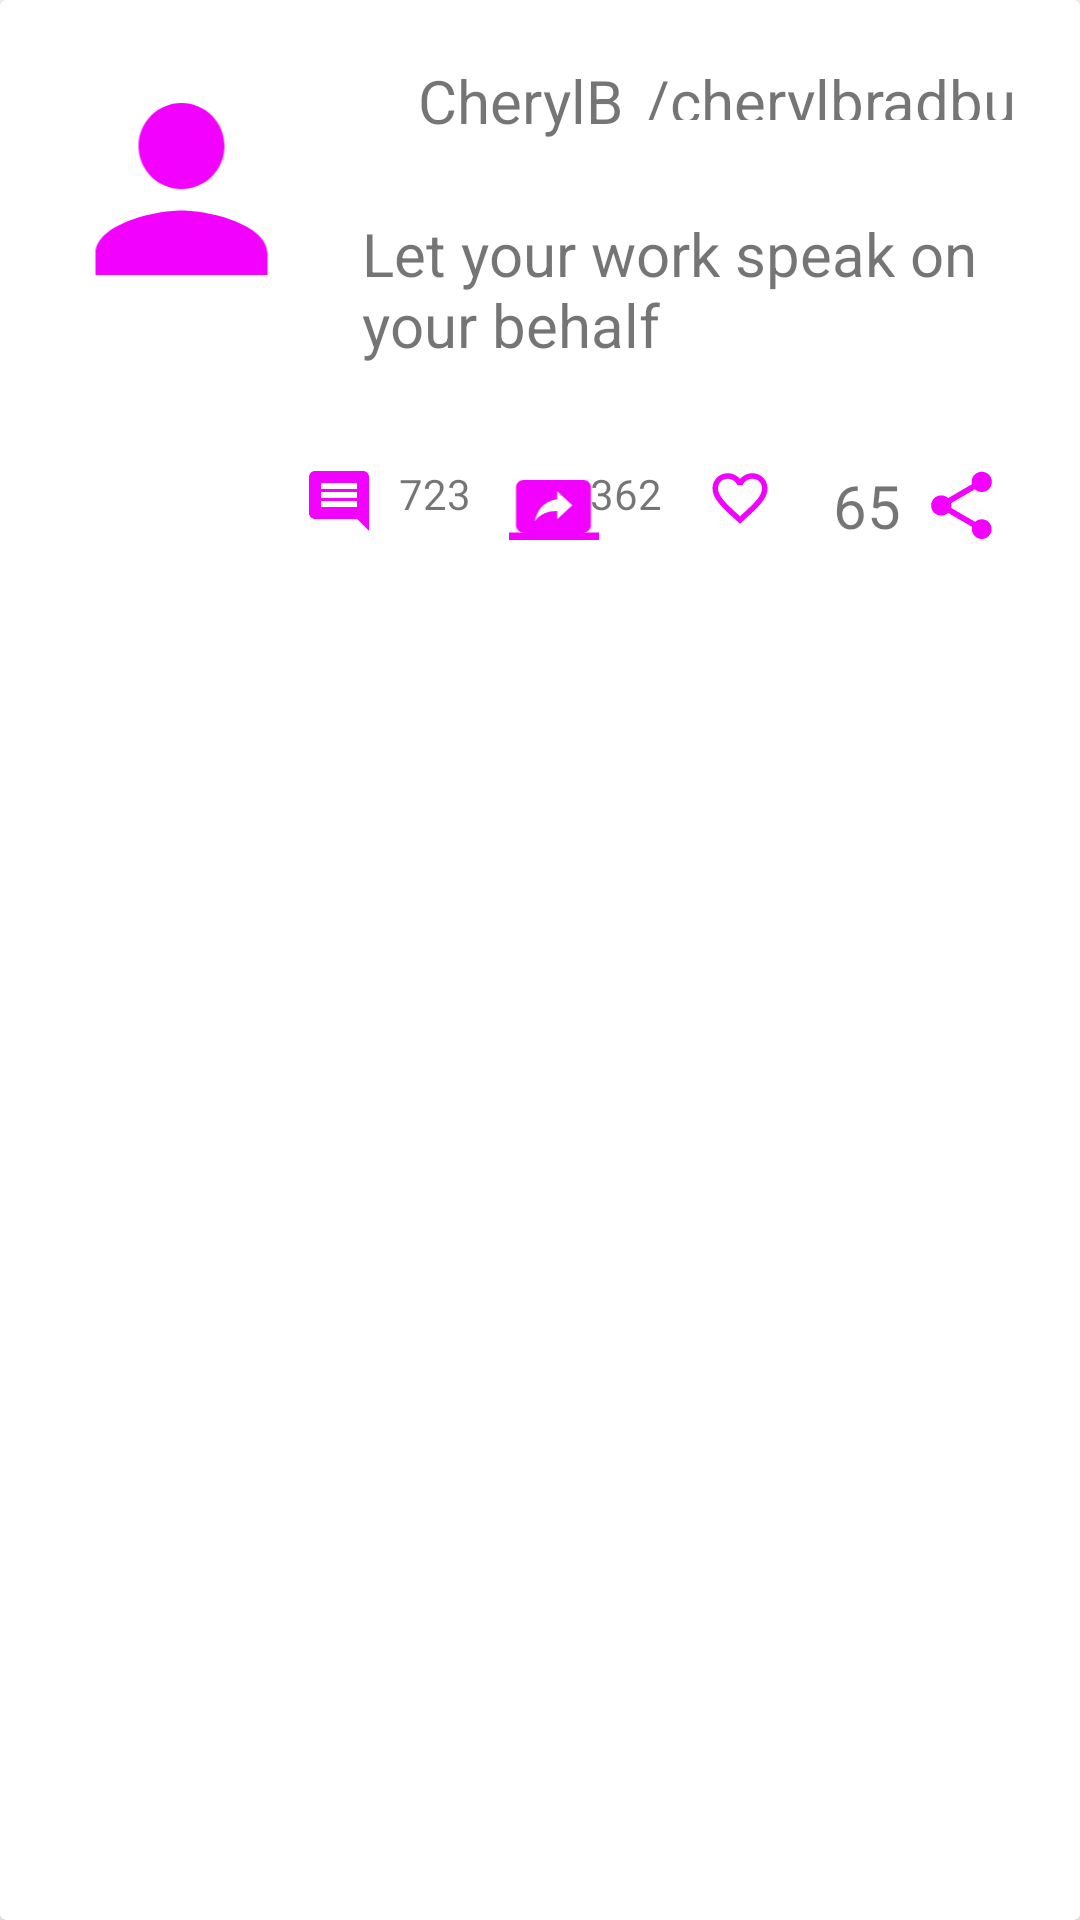

Icon click points for this 1080px x 1920px phone screenshot, format (x=x, y=y):
comment: (x=339, y=501)
favorite border: (x=740, y=498)
person: (x=181, y=189)
screen share: (x=560, y=509)
share: (x=961, y=505)
